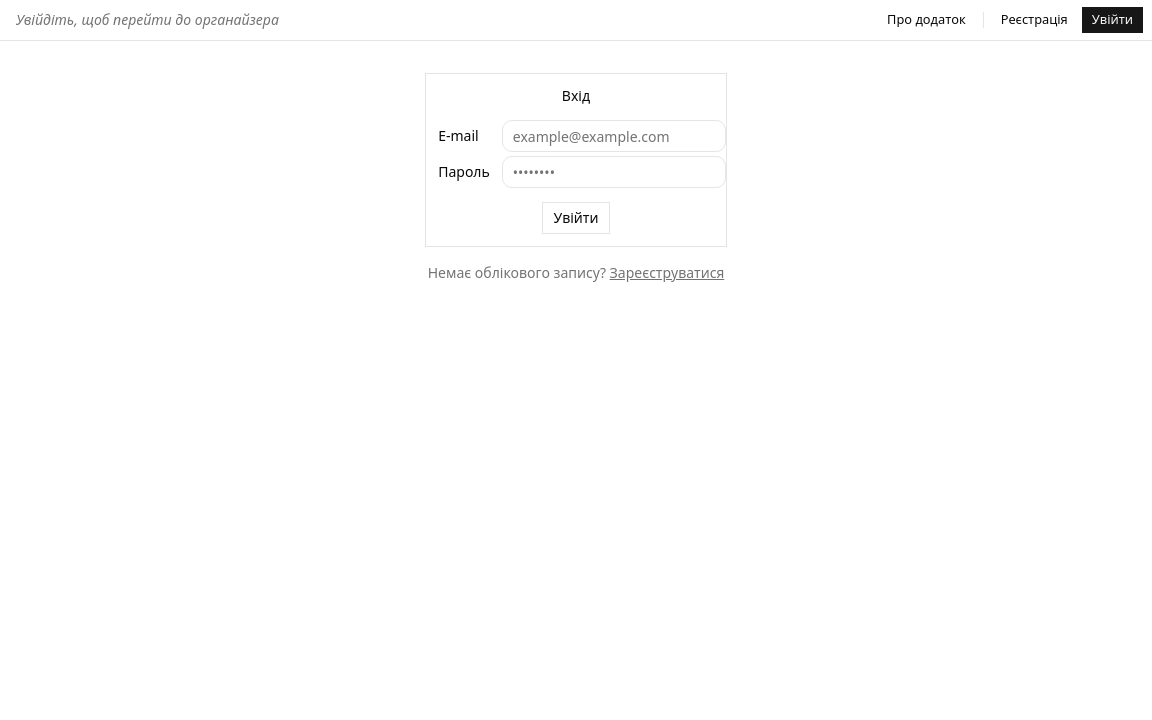
Test: Extra Tasks › creates a new task
Type "demo@example.com" into the field with id "login-email". click: coordinates (614, 136)
box: [502,120,726,152]
Type "demo" into the password field with id "login-password". click: coordinates (614, 172)
box: [502,156,726,188]
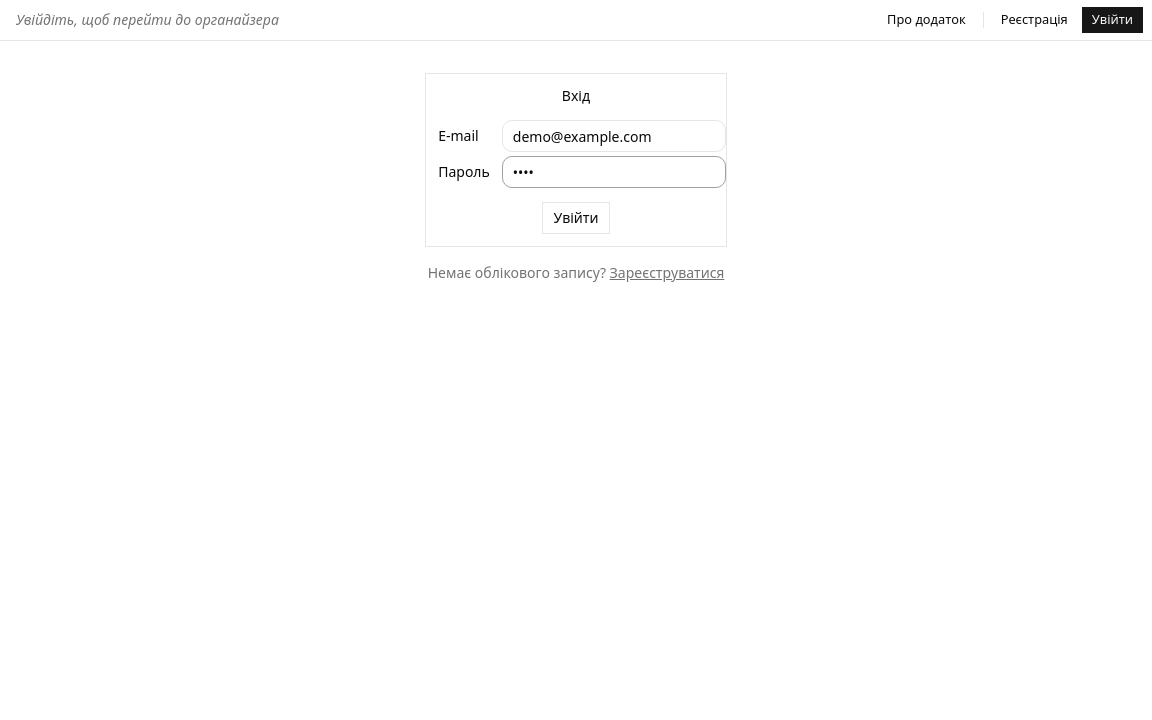
Click the button "Увійти" below "Пароль". click: coordinates (576, 218)
box: [542,202,609,234]
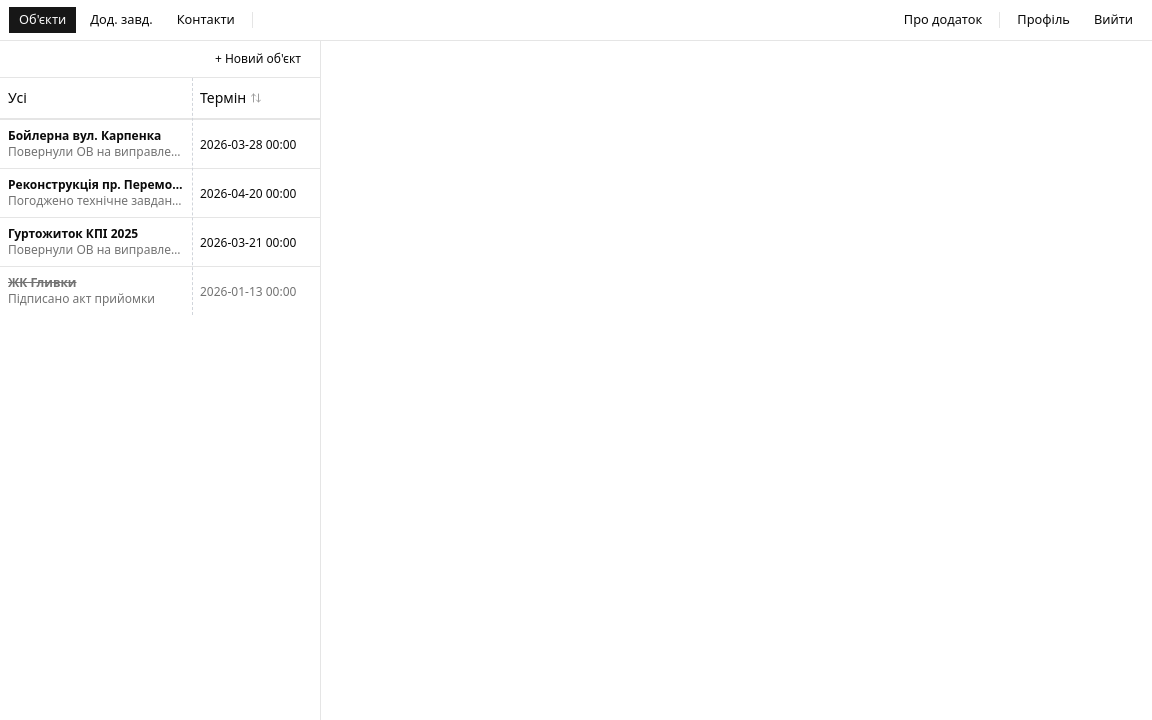
Click the button "Дод. завд.". click: coordinates (122, 20)
box: [79,6,164,34]
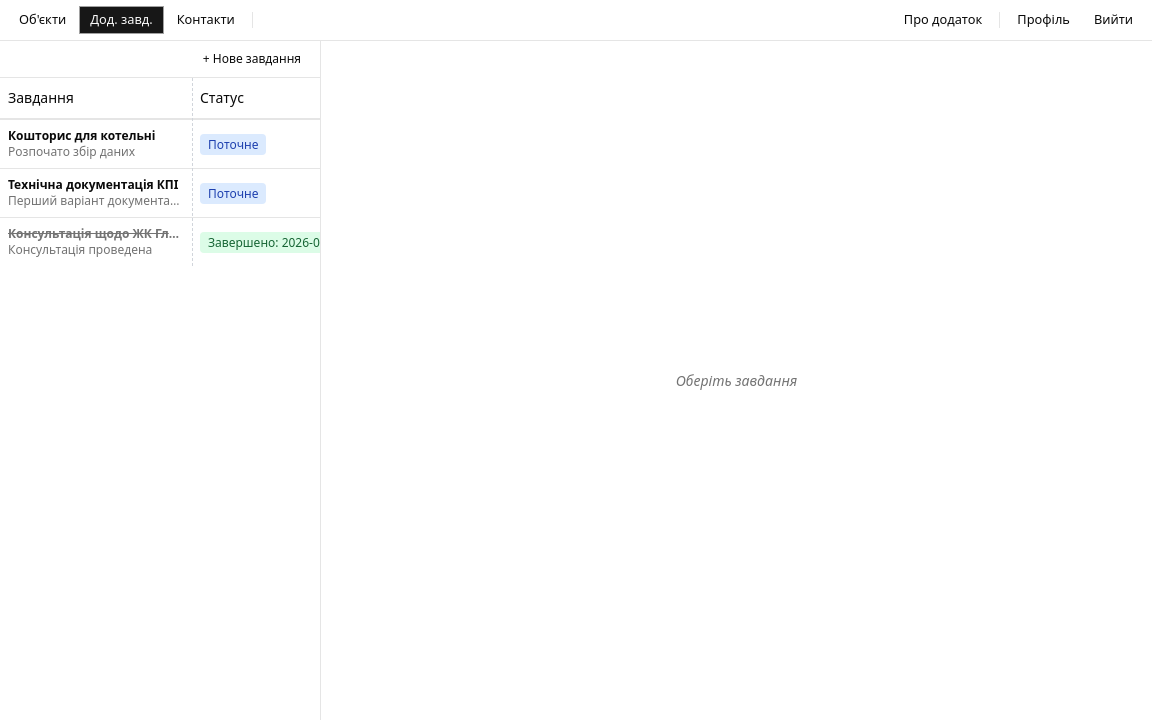
Click the button "+ Нове завдання". click: coordinates (252, 59)
box: [192,45,312,73]
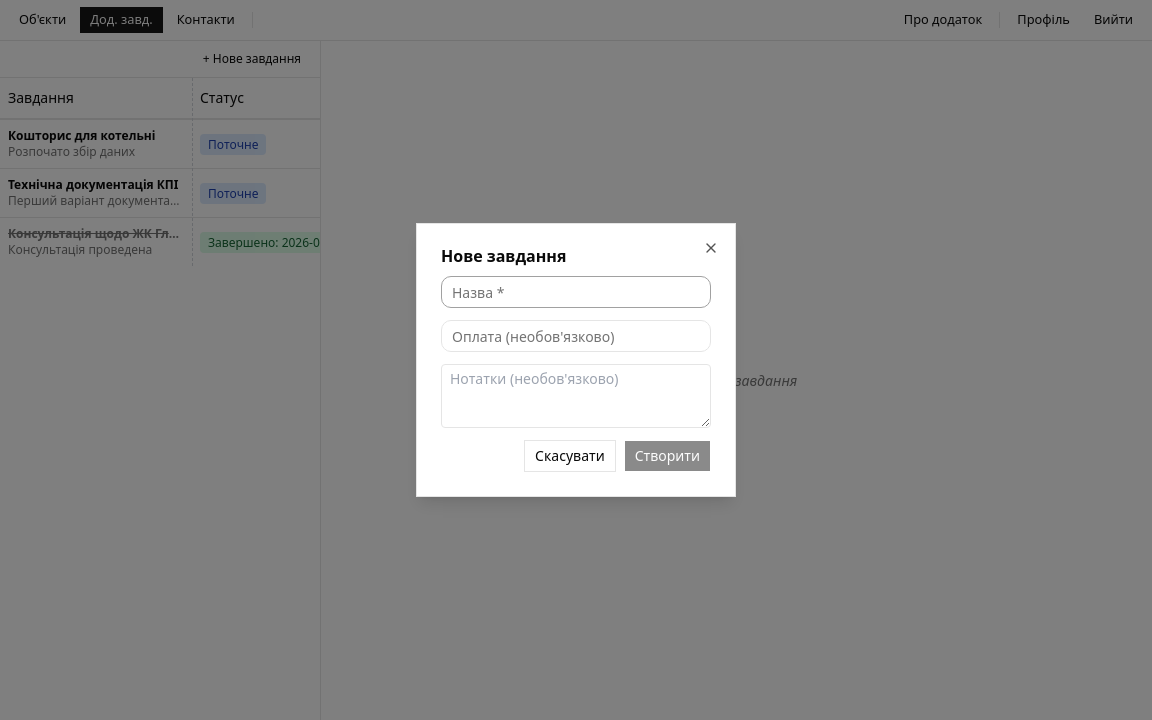
Type "Нове тестове завдання" into the field with placeholder "Назва *". click: coordinates (576, 292)
box: [441,276,711,308]
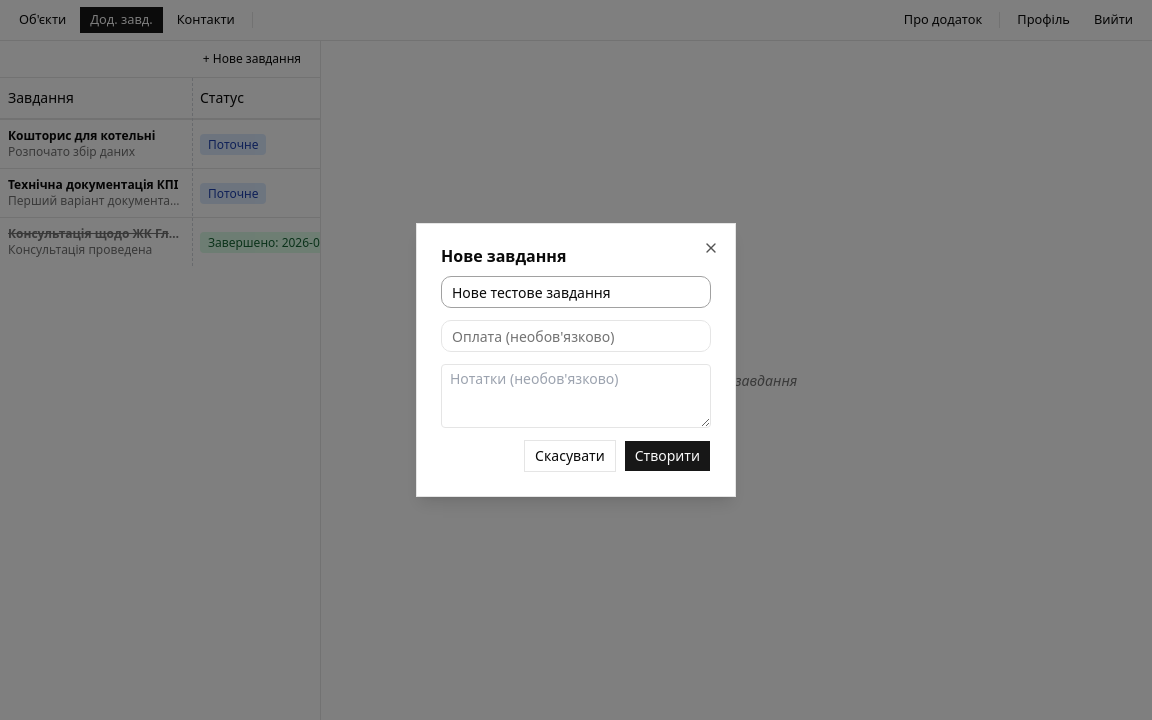
Click the button "Створити". click: coordinates (668, 456)
box: [624,440,711,472]
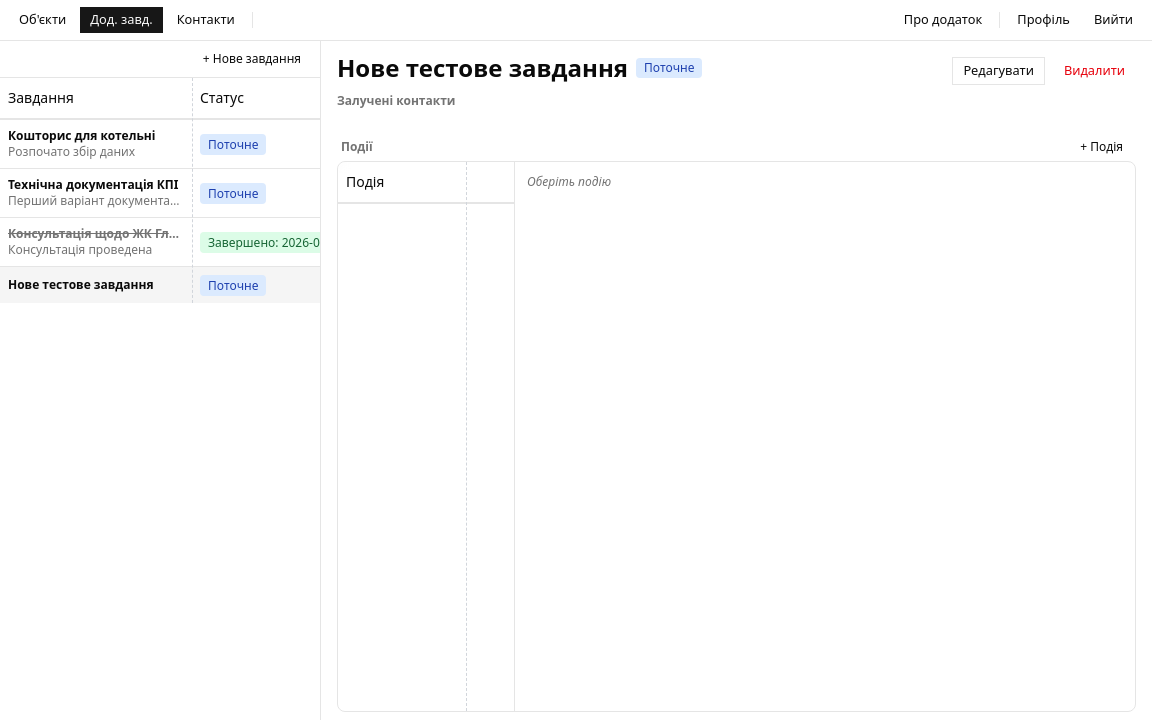
Expected: the text "Нове тестове завдання" is shown, [8,276,154,292]
